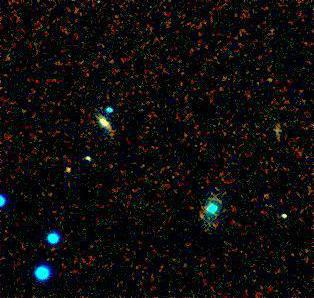star: (53, 155, 83, 185)
